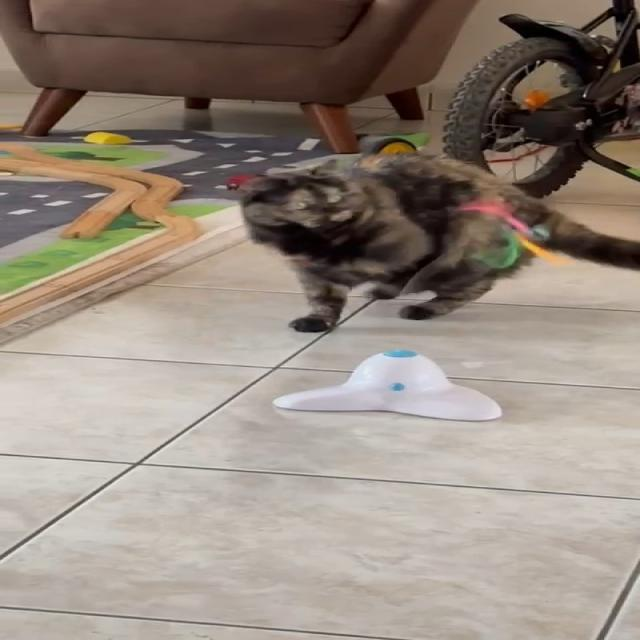authorized: (236, 147, 639, 333)
